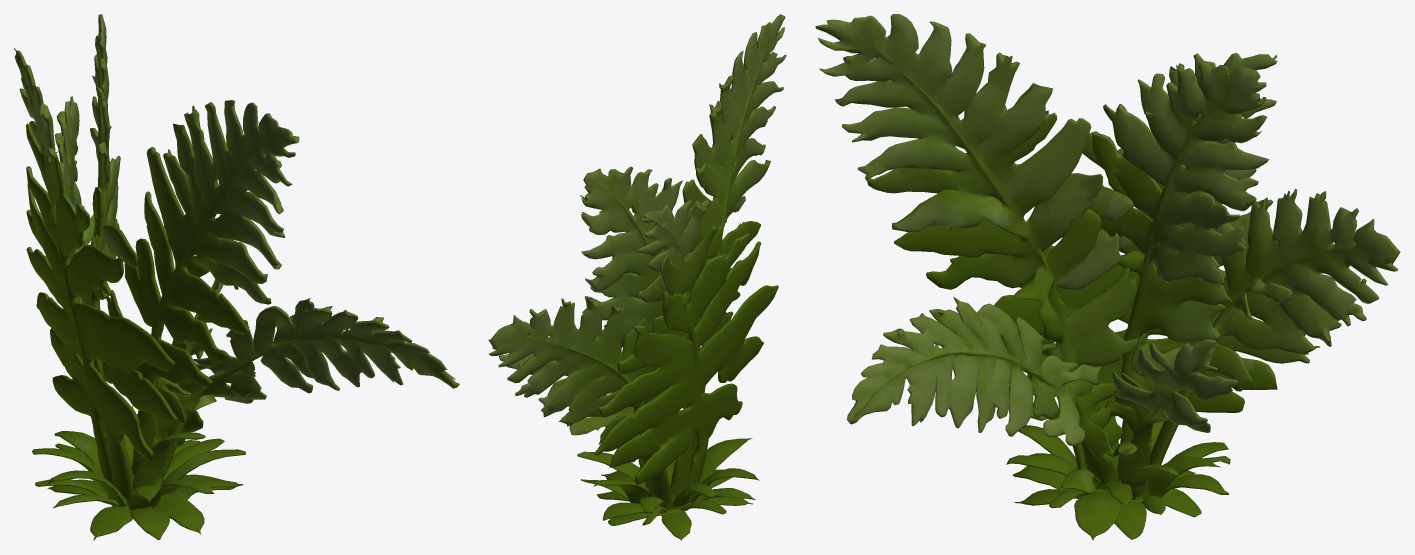
Rendered from fern-cluster.glb.
The picture shows the model from 3 angles, left to right: view 1: azimuth 30°, elevation 25°; view 2: azimuth 150°, elevation 25°; view 3: azimuth 270°, elevation 25°; orthographic projection. The views are drawn at different scales.
Parts seen in each view (by area): view 1: tripo_node_b46e58ec-29a9-42dc-bc0d-bb899dda6b1f; view 2: tripo_node_b46e58ec-29a9-42dc-bc0d-bb899dda6b1f; view 3: tripo_node_b46e58ec-29a9-42dc-bc0d-bb899dda6b1f.
Part boxes in pixels (box(x1,y1,x2,y2)): tripo_node_b46e58ec-29a9-42dc-bc0d-bb899dda6b1f: box(14, 14, 459, 540); tripo_node_b46e58ec-29a9-42dc-bc0d-bb899dda6b1f: box(488, 14, 786, 540); tripo_node_b46e58ec-29a9-42dc-bc0d-bb899dda6b1f: box(815, 14, 1400, 540).
Bounding box in the file's own units: 0.3152 × 0.5 × 0.54.
Materials: 1 (1 with a texture image).
